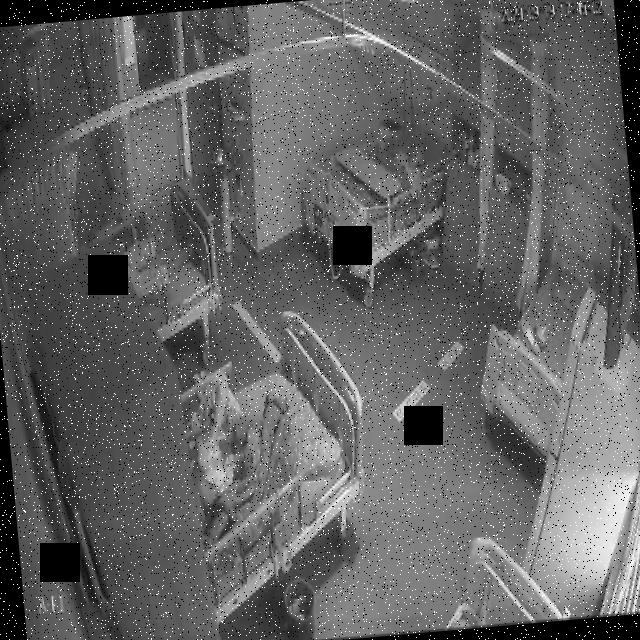bed: (175, 313, 372, 592), (297, 106, 453, 270), (477, 236, 599, 425), (113, 177, 225, 336)
lie: (181, 374, 254, 509), (119, 220, 196, 296)
patient: (182, 372, 254, 510), (118, 220, 196, 298), (386, 133, 431, 190)
